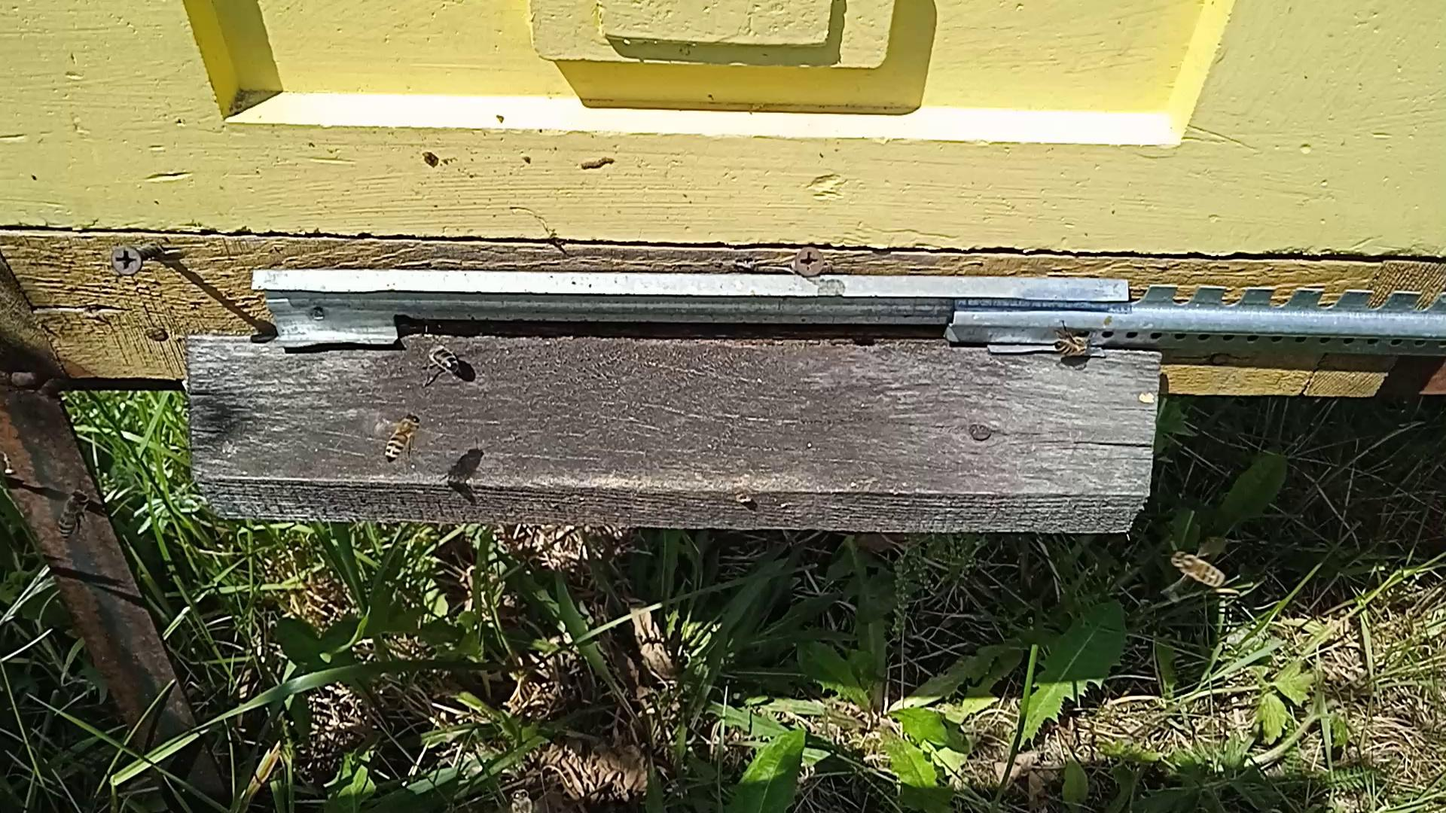worker-bee: (1170, 551, 1228, 589), (414, 332, 461, 374), (382, 413, 421, 461), (58, 489, 90, 539), (1053, 331, 1097, 358), (508, 787, 536, 813)
